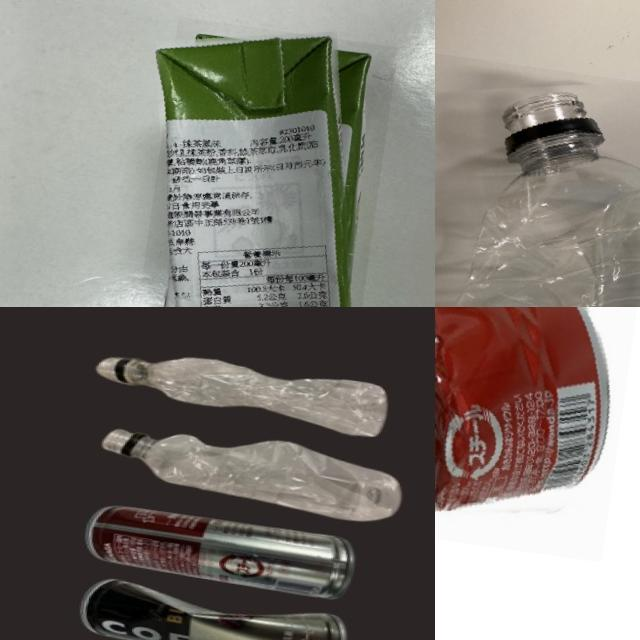Aluminium Foil: (117, 15, 399, 307)
Can: (435, 307, 640, 561), (78, 500, 358, 600), (68, 576, 357, 640)
Transparent Plastic Bottle: (435, 51, 640, 307), (94, 414, 408, 522), (88, 338, 392, 438)
